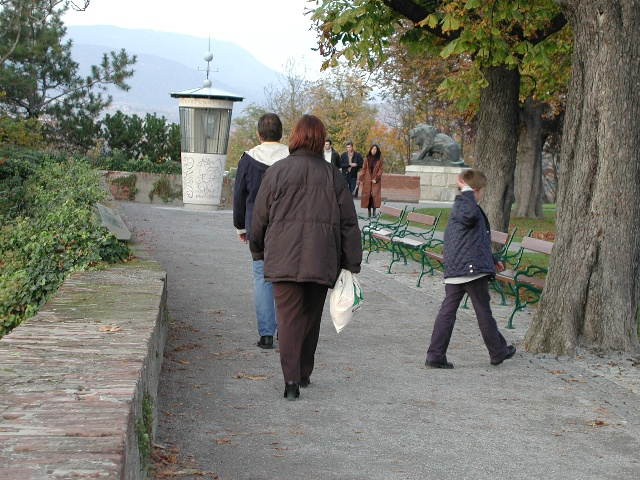person: (254, 118, 361, 398), (423, 162, 516, 365), (360, 141, 385, 219)
